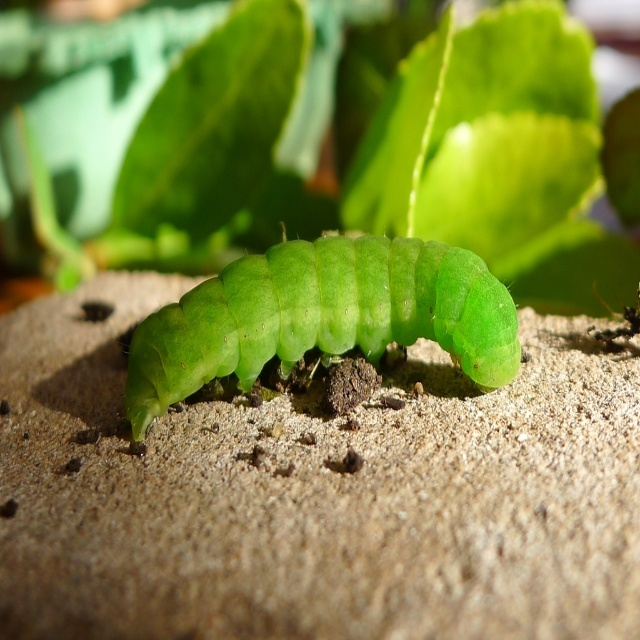Caterpillar: (116, 222, 523, 446)
